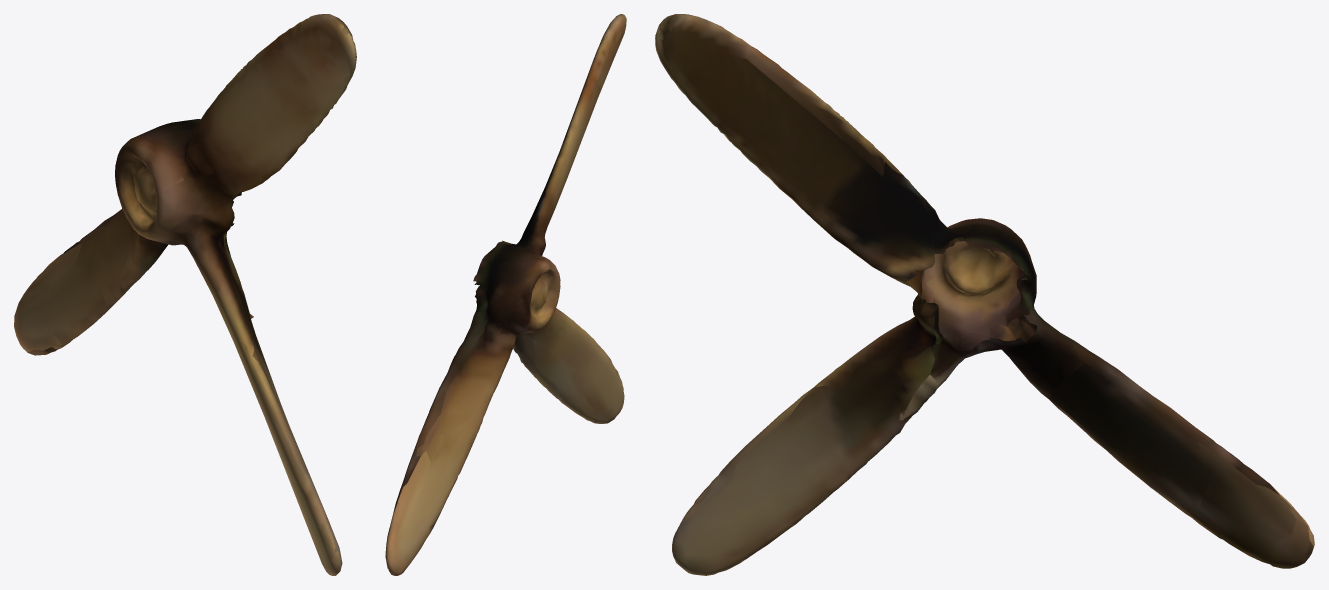
Rendered from aspaDer.obj.
3 views of the same model, side by side, from view 1: azimuth 30°, elevation 25°; view 2: azimuth 150°, elevation 25°; view 3: azimuth 270°, elevation 25° (orthographic). The views are drawn at different scales.
Visible parts, largest first — view 1: aspaDer_Material.001; view 2: aspaDer_Material.001; view 3: aspaDer_Material.001.
Boxes of the visible parts, x1=… form: aspaDer_Material.001: x1=14, y1=14, x2=356, y2=575; aspaDer_Material.001: x1=385, y1=14, x2=626, y2=575; aspaDer_Material.001: x1=655, y1=14, x2=1314, y2=575.
Size of the model in its own units: 0.0409 by 0.2762 by 0.2957.
